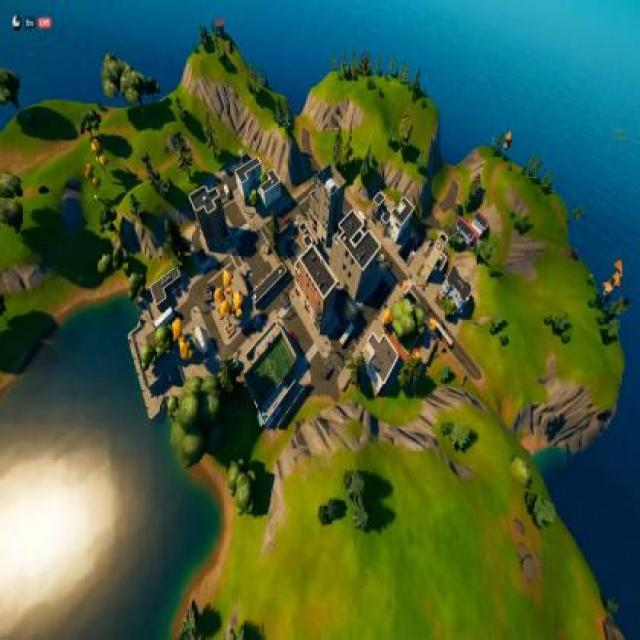tank: (321, 357, 333, 381), (419, 297, 431, 317), (280, 290, 290, 310), (204, 283, 212, 304)
